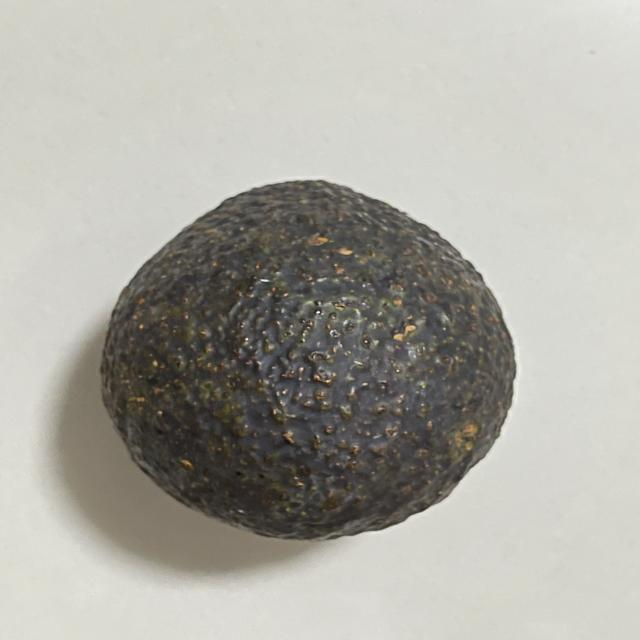Level2: (91, 173, 523, 546)
